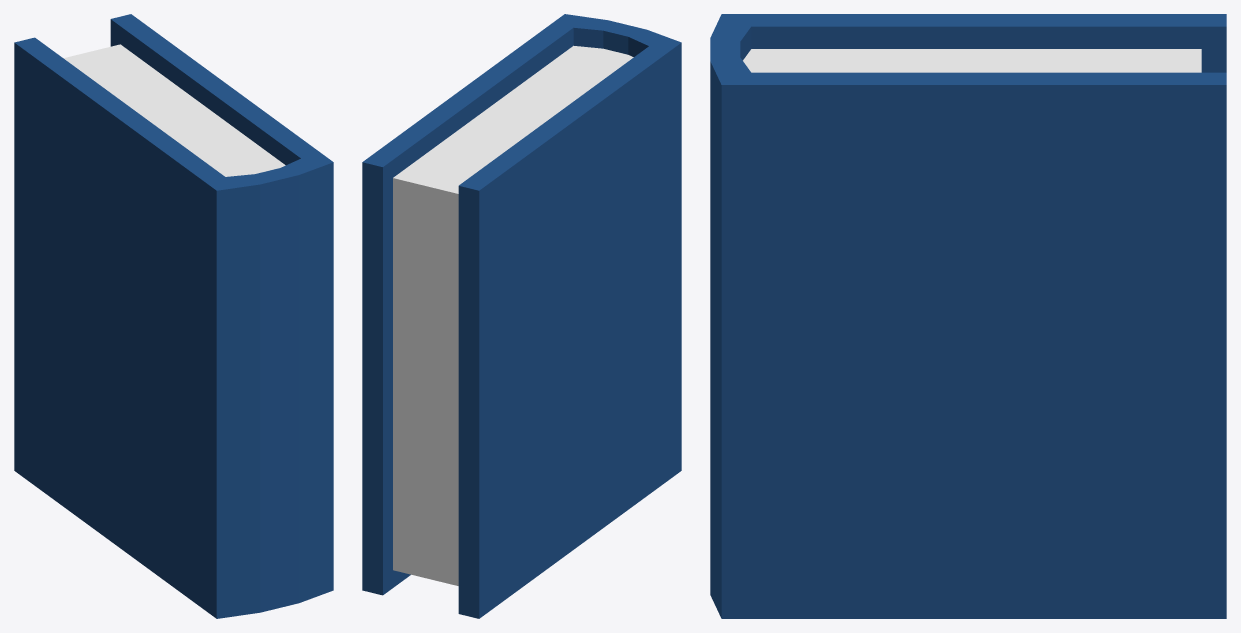
The model's file is Buch_Blau.fbx.
3 views of the same model, side by side, from view 1: azimuth 30°, elevation 25°; view 2: azimuth 150°, elevation 25°; view 3: azimuth 270°, elevation 25° (orthographic). The views are drawn at different scales.
Visible parts, largest first — view 1: Cube; view 2: Cube; view 3: Cube.
Boxes of the visible parts, bbox=[...] form: Cube: bbox=[14, 14, 333, 618]; Cube: bbox=[362, 14, 681, 618]; Cube: bbox=[710, 14, 1226, 618].
Size of the model in its own units: 40 by 140 by 123.
